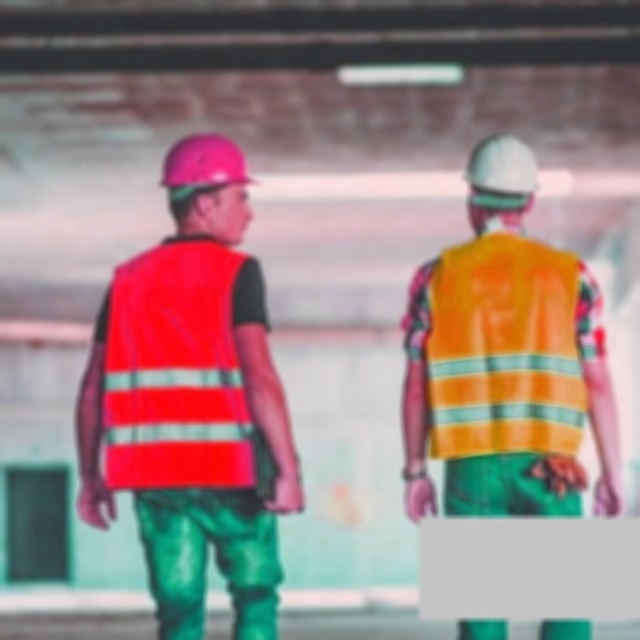Con_Chaleco: (105, 241, 264, 496), (419, 229, 589, 457)
